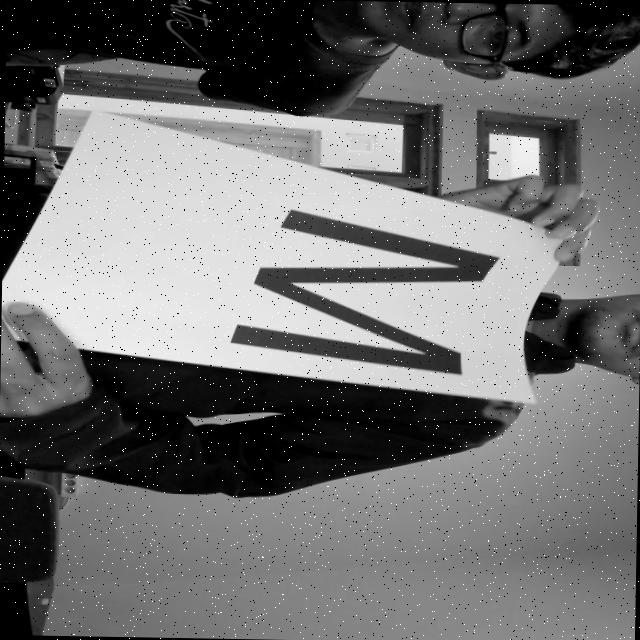m: (200, 201, 514, 384)
